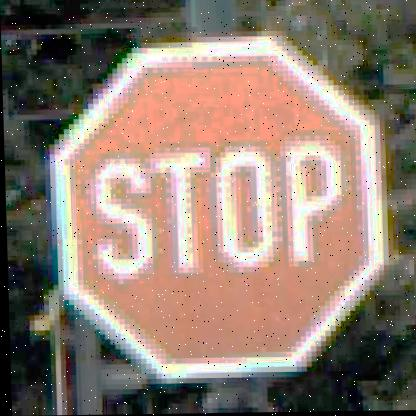Stop Sign: (40, 32, 392, 383)
